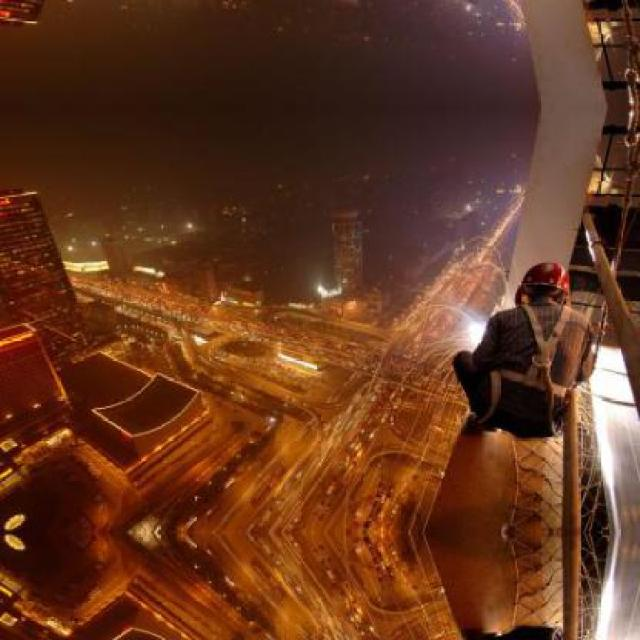helmet: (518, 254, 571, 314)
